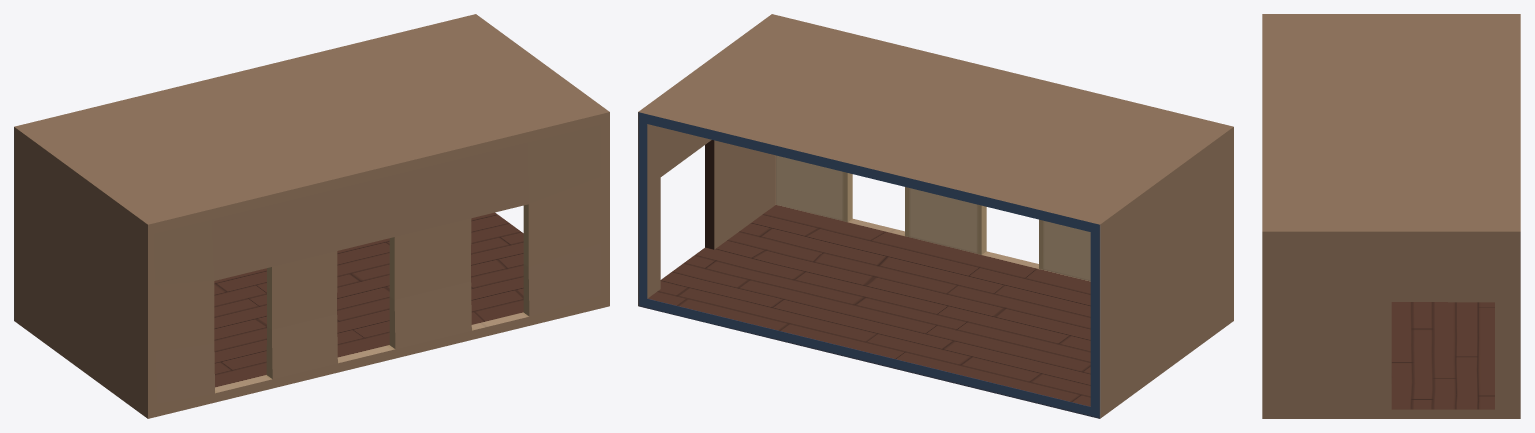
Rendered from Hallway2UP_3Doors_Left.fbx.
3 views of the same model, side by side, from view 1: azimuth 30°, elevation 25°; view 2: azimuth 150°, elevation 25°; view 3: azimuth 270°, elevation 25° (orthographic). The views are drawn at different scales.
Visible parts, largest first — view 1: up_3door_left; view 2: up_3door_left; view 3: up_3door_left.
Part boxes in pixels (x1,y1,x2,y2): up_3door_left: (14,14,609,418); up_3door_left: (638,14,1233,418); up_3door_left: (1262,14,1520,418).
Size of the model in its own units: 996 by 400 by 500.
